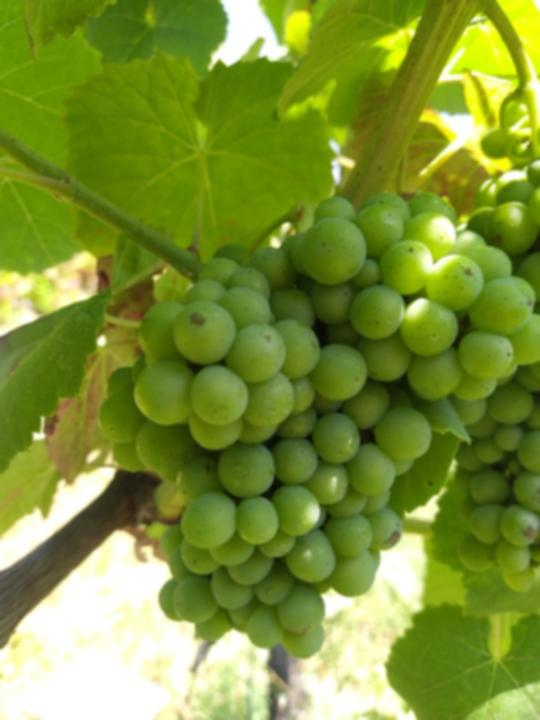grape: (97, 188, 534, 662)
